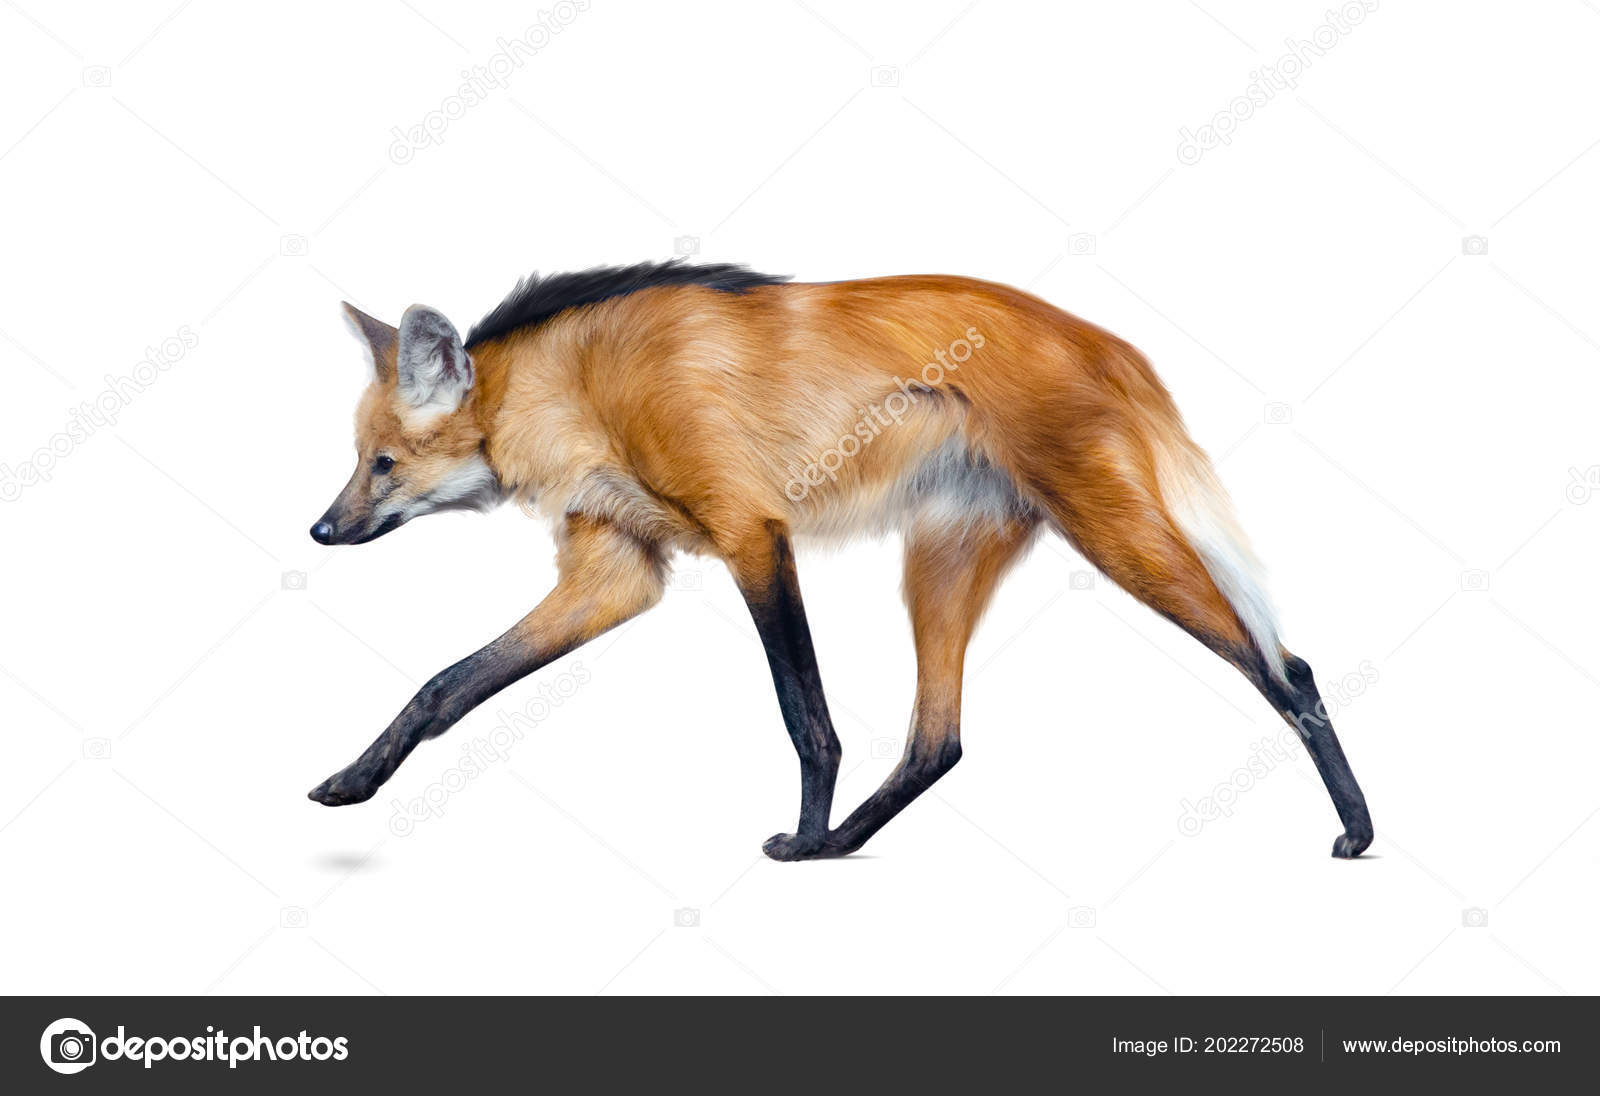LoboGuara: (293, 259, 1429, 895)
